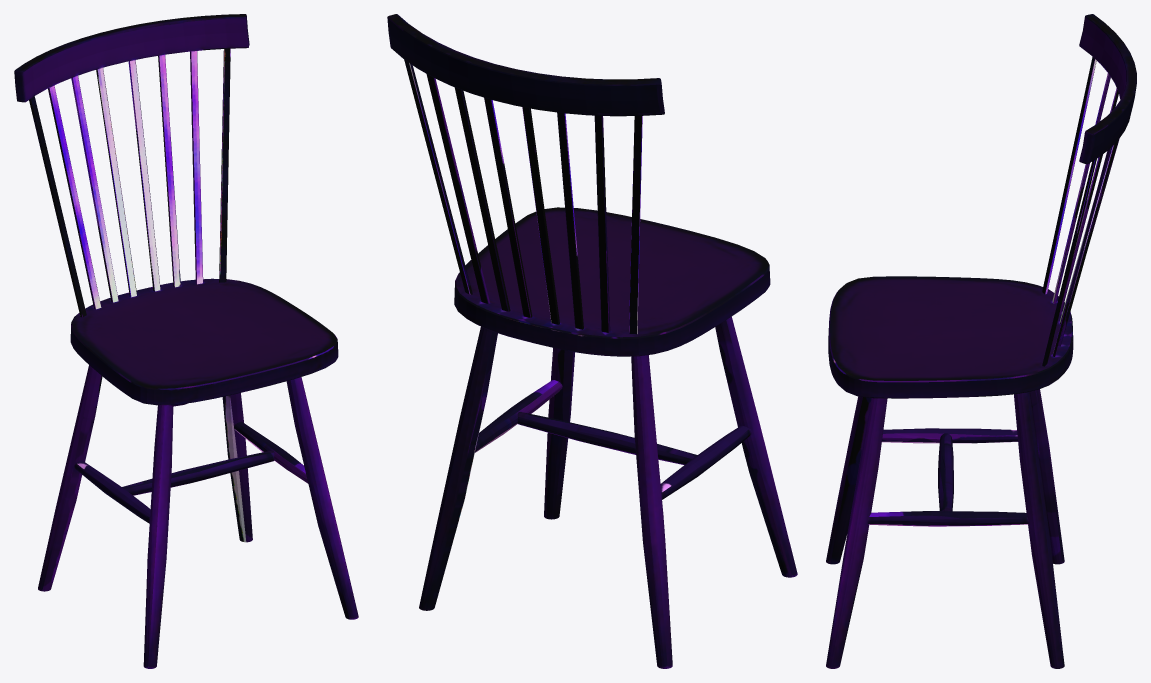
Rendered from edited_mesh.glb.
The picture shows the model from 3 angles, left to right: view 1: azimuth 30°, elevation 25°; view 2: azimuth 150°, elevation 25°; view 3: azimuth 270°, elevation 25°; orthographic projection. The views are drawn at different scales.
Parts seen in each view (by area): view 1: normalized_model.obj; view 2: normalized_model.obj; view 3: normalized_model.obj.
Boxes of the visible parts, x1,y1,x2,y2 form: normalized_model.obj: (14,14,358,668); normalized_model.obj: (387,14,797,668); normalized_model.obj: (826,14,1136,668).
Bounding box in the file's own units: 0.7566 × 1.59 × 0.8261.
Materials: 1 (1 with a texture image).
